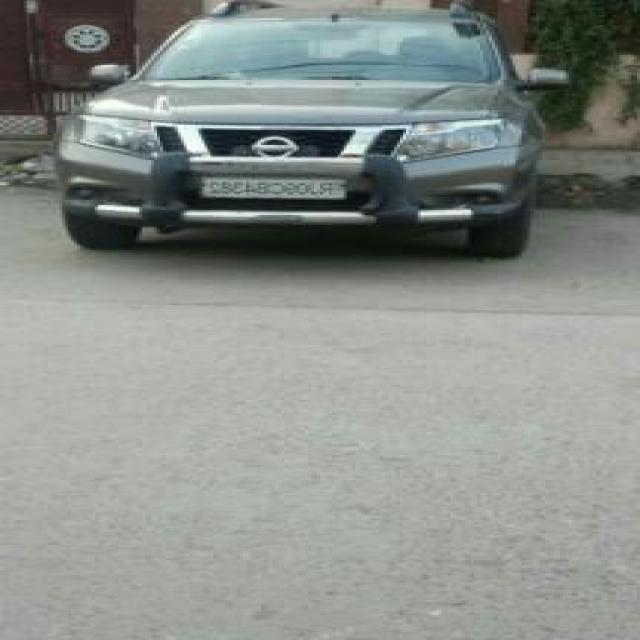number-plate: (170, 166, 349, 204)
